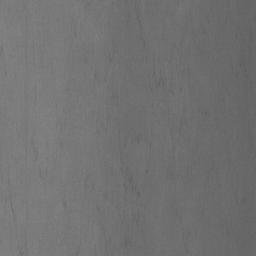Silk spot: (120, 167, 140, 197), (18, 241, 27, 256), (156, 78, 166, 88)
